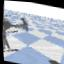drone: (1, 12, 30, 54)
